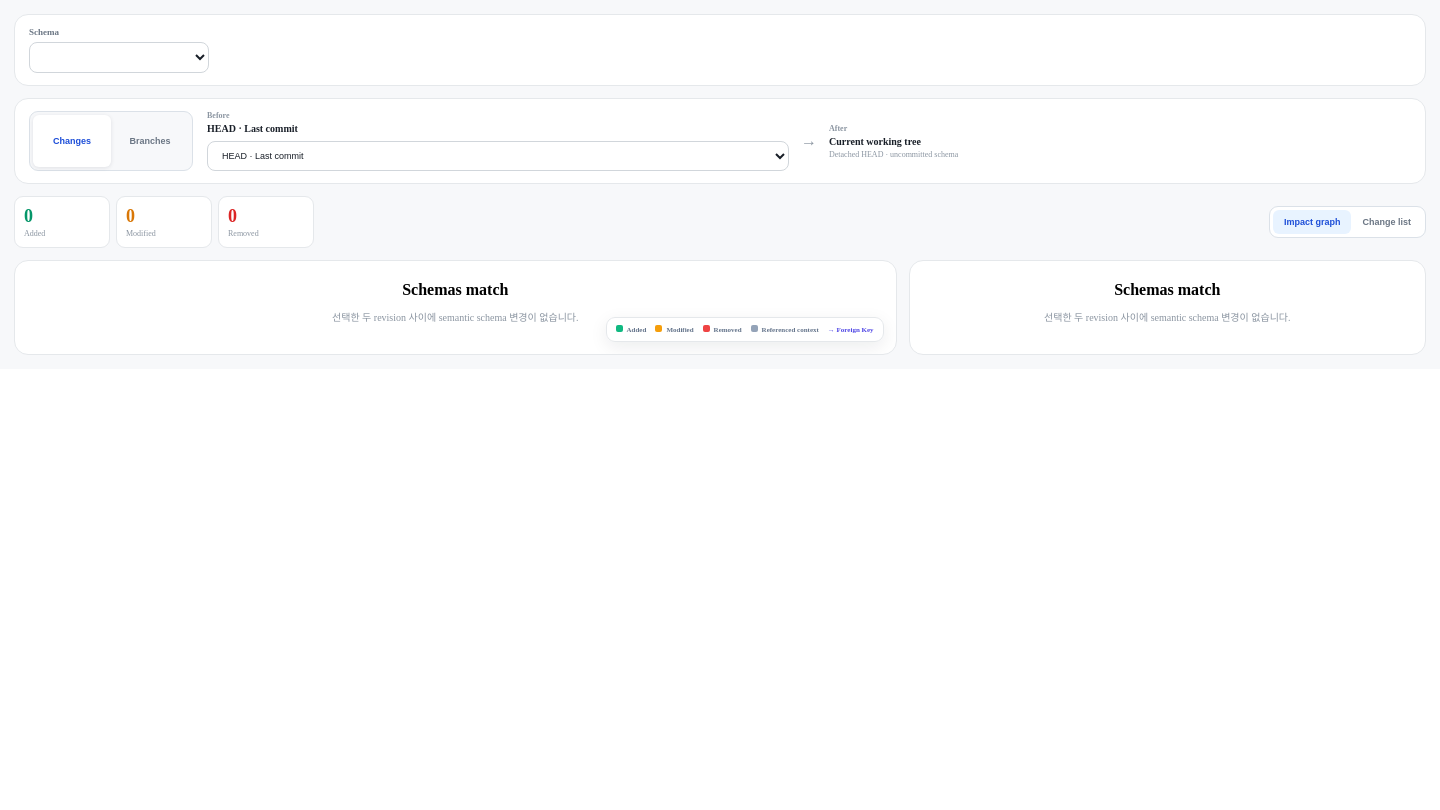
Test: SchemaWorkspace › compares HEAD with the working tree and lists semantic changes
The width and height of the screenshot is (1440, 810).
Expected: the element named "Schema change graph" is shown, [14,260,897,355]
Click the button "Change list".
click(1387, 222)  # box [1352,210,1422,234]
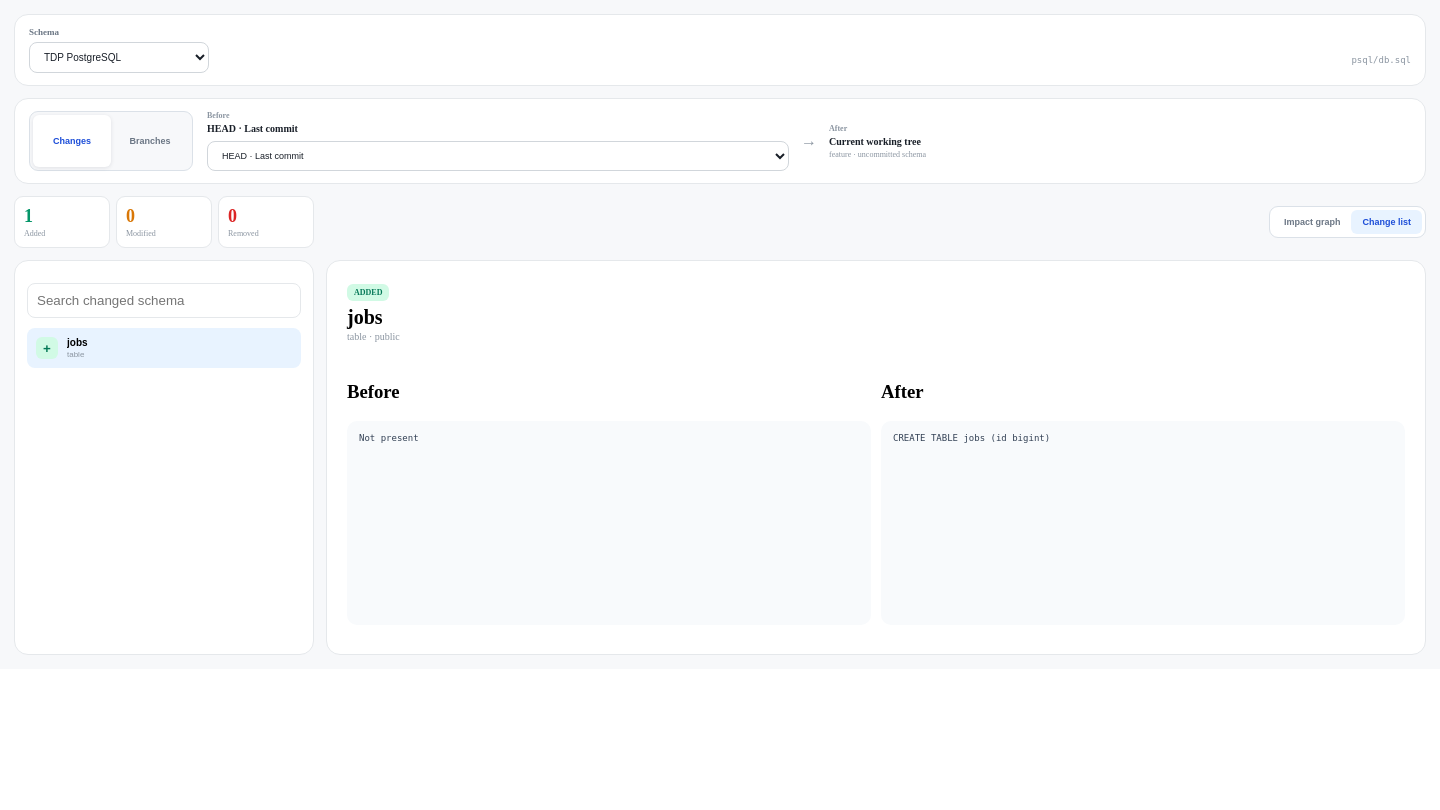
Expected: the dropdown named "Changes before schema source" is shown, [207,141,789,171]
Expected: the button "+ jobs table" is shown, [27,328,301,368]
Click the button "Branches".
click(150, 141)  # box [111,115,189,167]
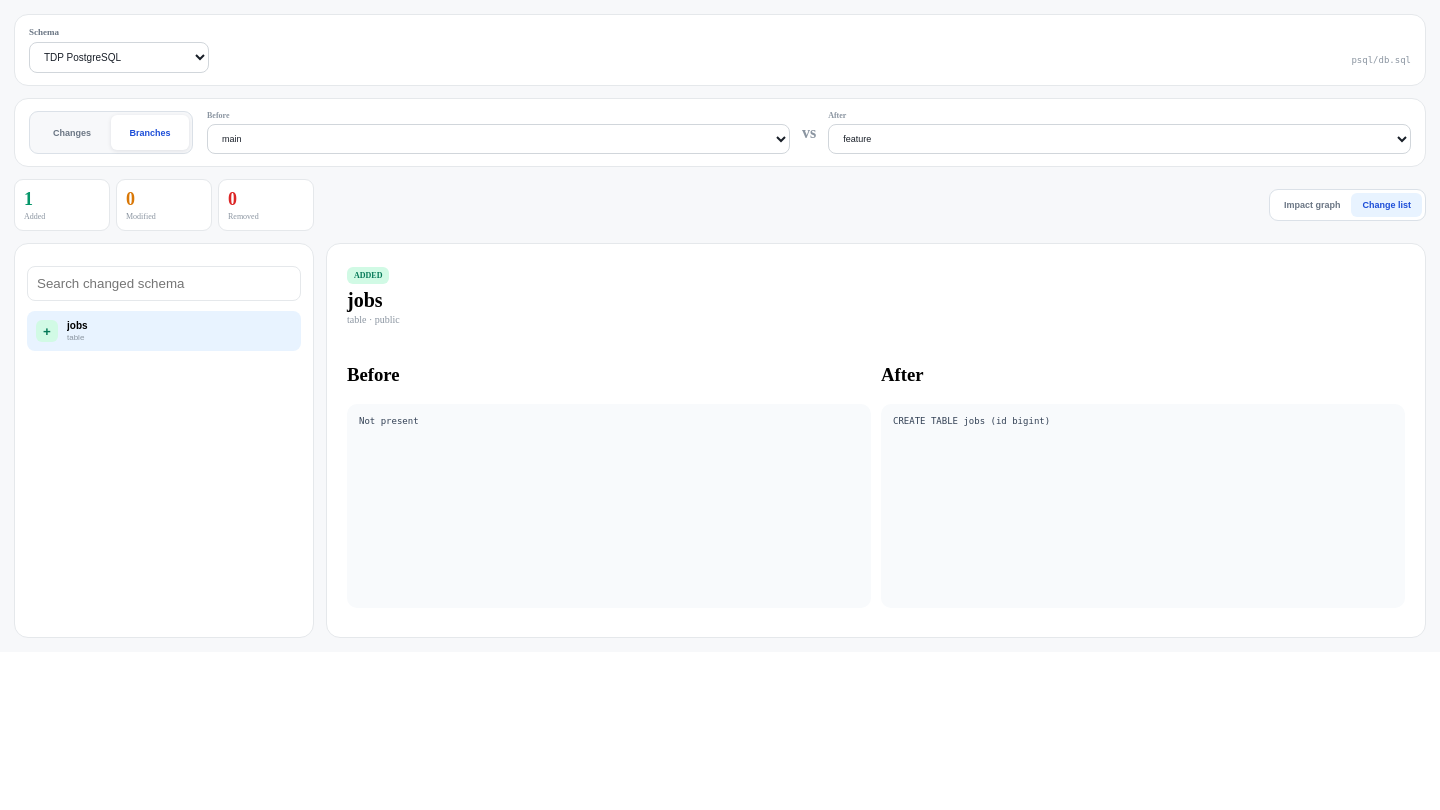
Expected: the dropdown named "Branches before schema source" shows "main", [207,124,790,154]
Expected: the dropdown named "Branches after schema source" shows "feature", [828,124,1411,154]
